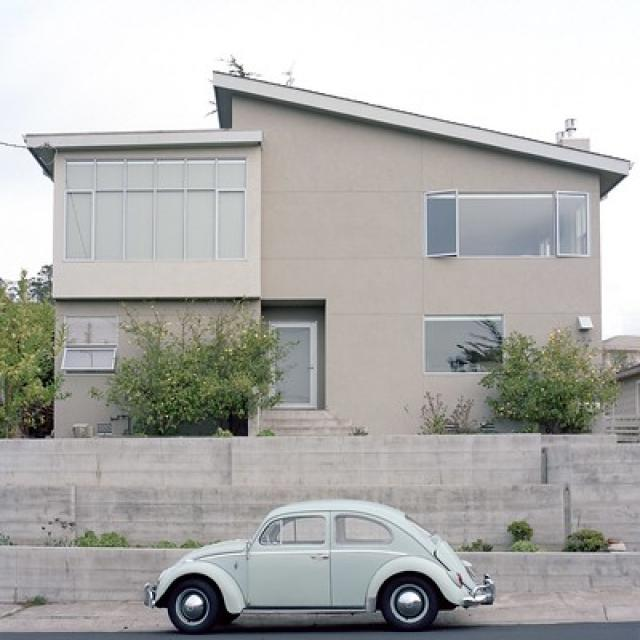Normal_building: (21, 68, 622, 432)
